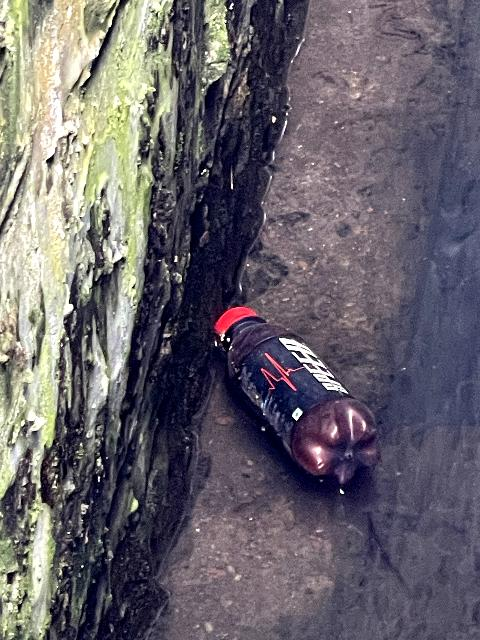bottle: (213, 299, 393, 483)
